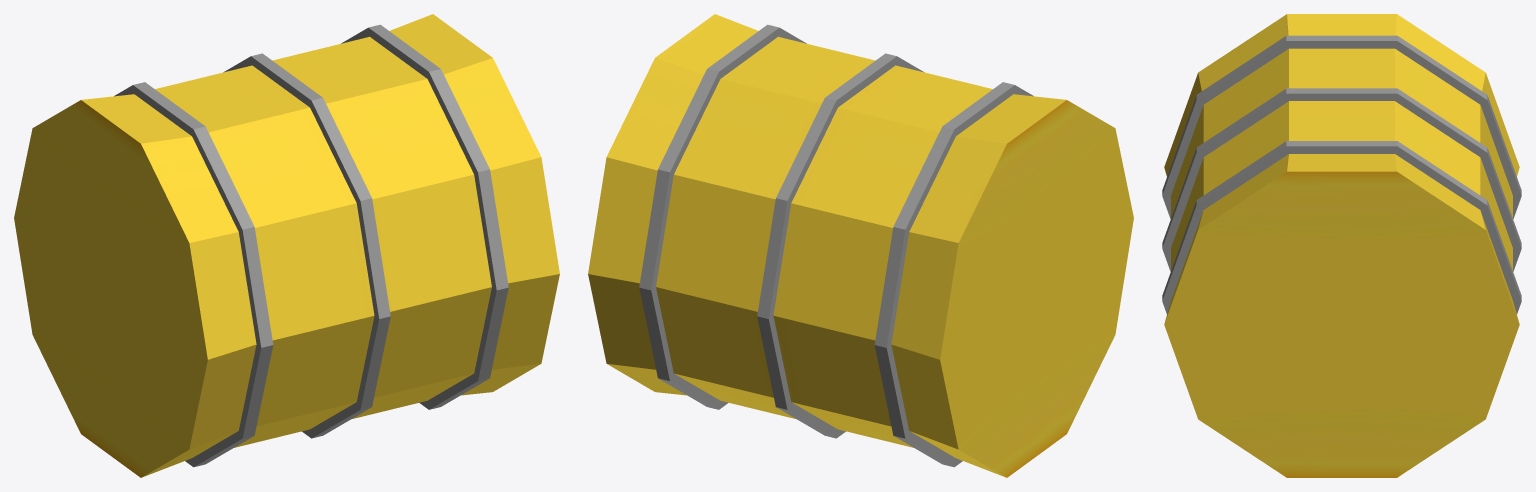
The model's file is big_haybale.glb.
3 views of the same model, side by side, from view 1: azimuth 30°, elevation 25°; view 2: azimuth 150°, elevation 25°; view 3: azimuth 270°, elevation 25° (orthographic). The views are drawn at different scales.
Visible parts, largest first — view 1: rock02_Mesh_007_Base_0.3808; view 2: rock02_Mesh_007_Base_0.3808; view 3: rock02_Mesh_007_Base_0.3808.
Boxes of the visible parts, left/top/right/bottom form: rock02_Mesh_007_Base_0.3808: left=14, top=14, right=559, bottom=477; rock02_Mesh_007_Base_0.3808: left=588, top=14, right=1133, bottom=477; rock02_Mesh_007_Base_0.3808: left=1162, top=14, right=1521, bottom=477.
Size of the model in its own units: 1.67 by 1.53 by 1.61.
1 material, 1 textured.
